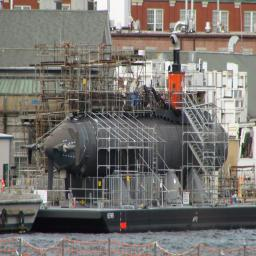submarine: (38, 107, 229, 182)
